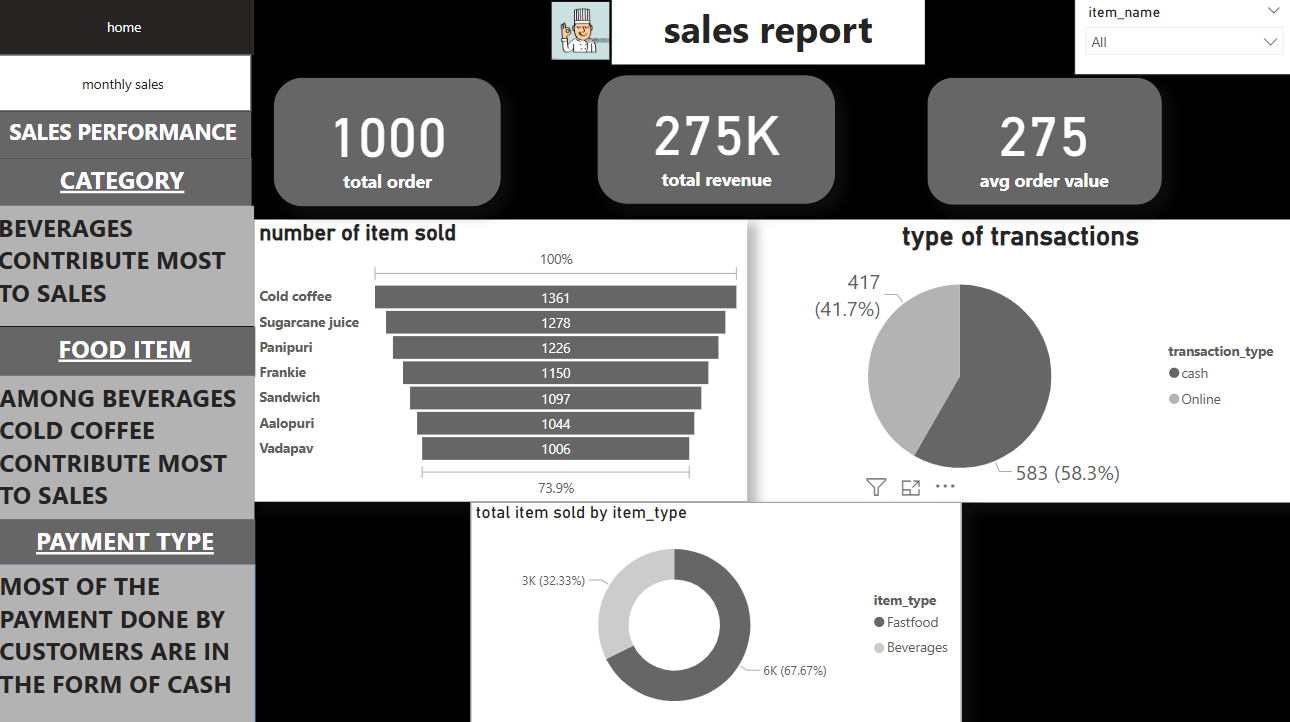

What the dashboard file says about the page in this screenshot:
{"tool":"powerbi","page":{"name":"home","canvas":[1280,720],"ordinal":0},"visuals":[{"type":"pieChart","title":"type of transactions","fields":{"Category":["Balaji Fast Food Sales.transaction_type"],"Y":["Balaji Fast Food Sales.total order"]},"box":[741.7,218.3,538.3,278.3],"z":0},{"type":"image","box":[528.3,0,98.3,66.7],"z":1000},{"type":"funnel","title":"number of item sold ","fields":{"Category":["Balaji Fast Food Sales.item_name"],"Y":["Balaji Fast Food Sales.total item sold"]},"box":[257,218.9,484.5,277.9],"z":2000},{"type":"card","fields":{"Values":["Balaji Fast Food Sales.total revenue"]},"box":[593.3,76.7,235,128.3],"z":3000},{"type":"card","fields":{"Values":["Balaji Fast Food Sales.total order"]},"box":[275,78.3,225,128.3],"z":4000},{"type":"card","fields":{"Values":["Balaji Fast Food Sales.avg order value"]},"box":[918.3,78.3,231.7,126.7],"z":5000},{"type":"slicer","title":"types of item","fields":{"Values":["Balaji Fast Food Sales.item_name"]},"box":[1063.5,0,216.2,77],"z":6000},{"type":"textbox","box":[609.3,0,307.6,66.4],"z":7000},{"type":"pageNavigator","box":[1.7,1.7,255,55],"z":8000},{"type":"pageNavigator","box":[1.7,56.7,253.3,56.7],"z":9000},{"type":"shape","box":[1.4,558.6,257.1,161.4],"z":10000},{"type":"donutChart","fields":{"Category":["Balaji Fast Food Sales.item_type"],"Y":["Balaji Fast Food Sales.total item sold"]},"box":[470,496.7,483.3,223.3],"z":11000},{"type":"textbox","box":[1.4,112.9,252.9,45.7],"z":12000},{"type":"textbox","box":[0,158.6,254.3,47.1],"z":13000},{"type":"textbox","box":[0,205.7,257.1,118.6],"z":14000},{"type":"textbox","box":[1.4,324.3,257.1,48.6],"z":15000},{"type":"textbox","box":[1.4,372.9,255.7,141.4],"z":16000},{"type":"textbox","box":[1.4,514.3,257.1,44.3],"z":17000},{"type":"textbox","box":[1.4,558.6,255.7,161.4],"z":18000}]}

Visuals, with their boxes in screenshot pixels (x1, y1, x2, y2):
"type of transactions" pieChart: 747 214 1289 499
image: 528 0 629 58
"number of item sold " funnel: 250 214 747 499
card - Balaji Fast Food Sales.total revenue: 595 69 836 200
card - Balaji Fast Food Sales.total order: 269 70 499 202
card - Balaji Fast Food Sales.avg order value: 928 70 1166 200
"types of item" slicer: 1077 0 1289 69
textbox: 611 0 927 58
pageNavigator: 0 0 250 48
pageNavigator: 0 48 248 106
shape: 0 563 252 721
donutChart - Balaji Fast Food Sales.item_type x Balaji Fast Food Sales.total item sold: 469 499 964 721
textbox: 0 106 247 153
textbox: 0 153 247 201
textbox: 0 201 250 323
textbox: 0 323 252 372
textbox: 0 372 250 517
textbox: 0 517 252 563
textbox: 0 563 250 721
